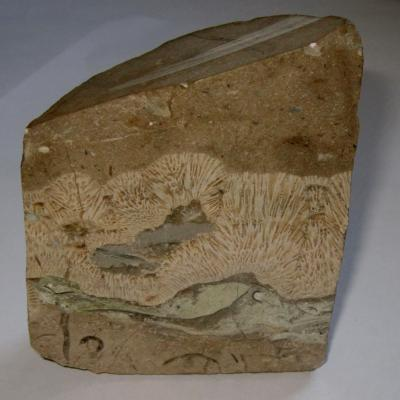mineralogy: (21, 16, 363, 374)
